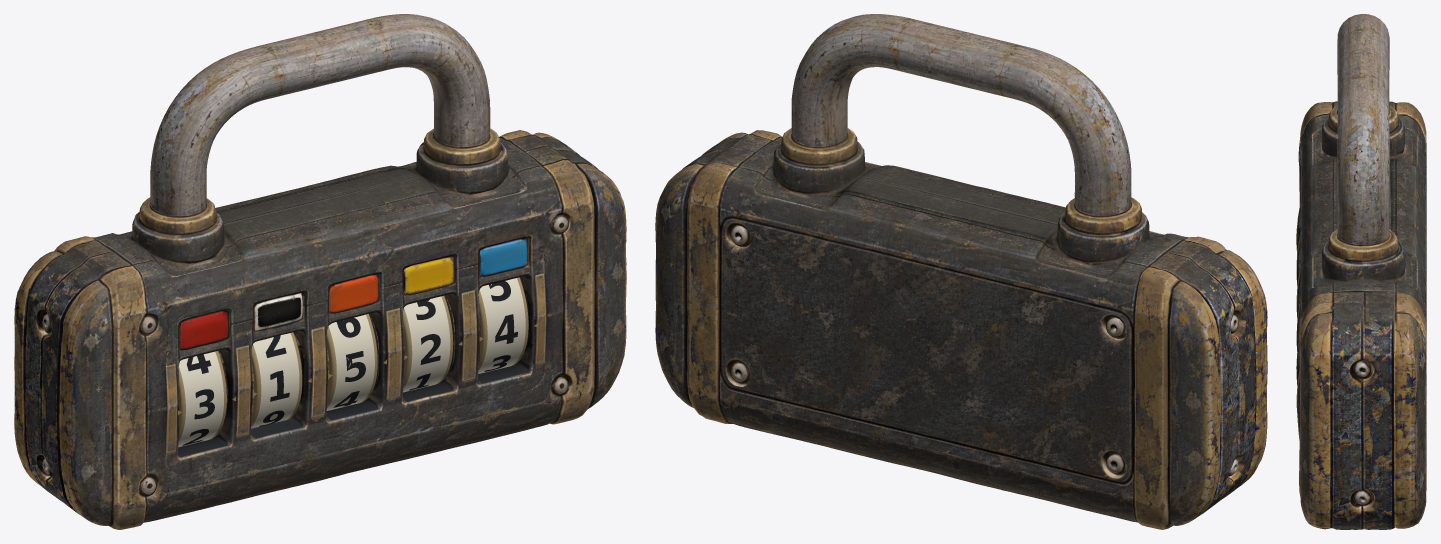
File: Padlock_5Dial_1to9.fbx
3 views of the same model, side by side, from view 1: azimuth 30°, elevation 25°; view 2: azimuth 150°, elevation 25°; view 3: azimuth 270°, elevation 25° (orthographic). The views are drawn at different scales.
Visible parts, largest first — view 1: Body, Shackle, Dial_03, Dial_02, Dial_04, Dial_05, Dial_01; view 2: Body, Shackle; view 3: Body, Shackle.
Boxes of the visible parts, left/top/right/bottom form: Body: left=14, top=128, right=626, bottom=529; Shackle: left=150, top=14, right=490, bottom=215; Dial_03: left=326, top=314, right=377, bottom=410; Dial_02: left=251, top=332, right=302, bottom=428; Dial_04: left=403, top=295, right=453, bottom=392; Dial_05: left=478, top=277, right=528, bottom=373; Dial_01: left=178, top=351, right=226, bottom=447; Body: left=655, top=128, right=1267, bottom=529; Shackle: left=791, top=14, right=1131, bottom=215; Body: left=1296, top=101, right=1426, bottom=529; Shackle: left=1337, top=14, right=1389, bottom=244.
Bounding box in the file's own units: 0.9817 × 0.7102 × 0.2225.
